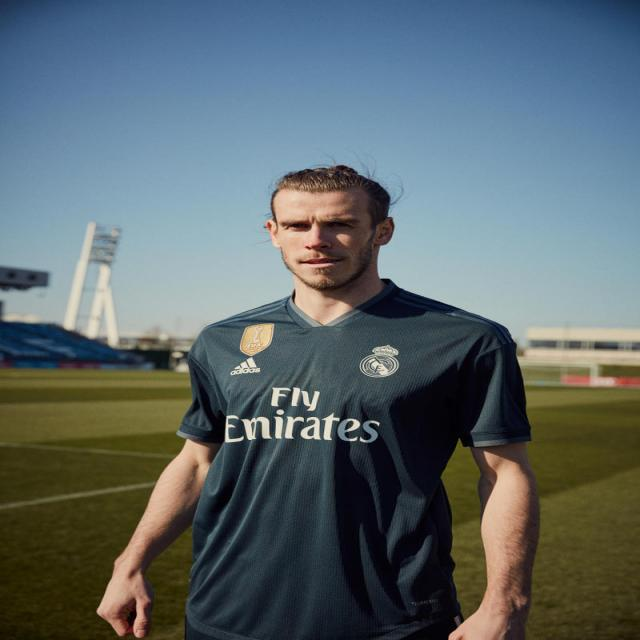Emirates: (221, 408, 379, 444)
